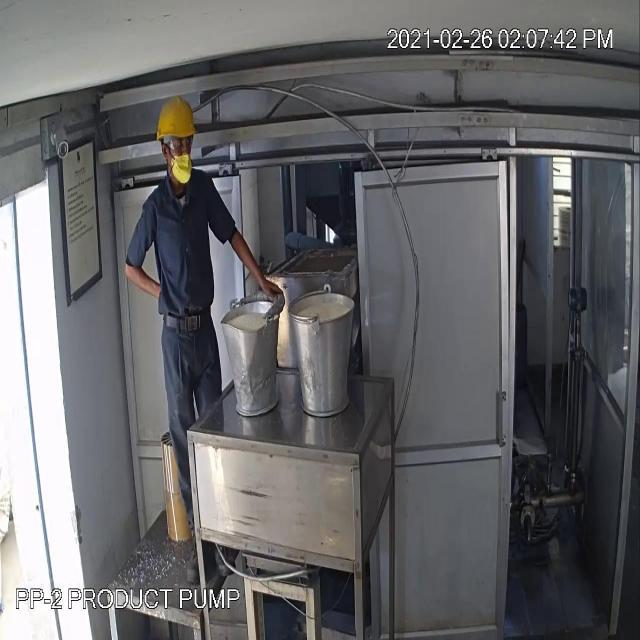hard-hat: (149, 96, 207, 140)
person: (136, 92, 240, 535)
